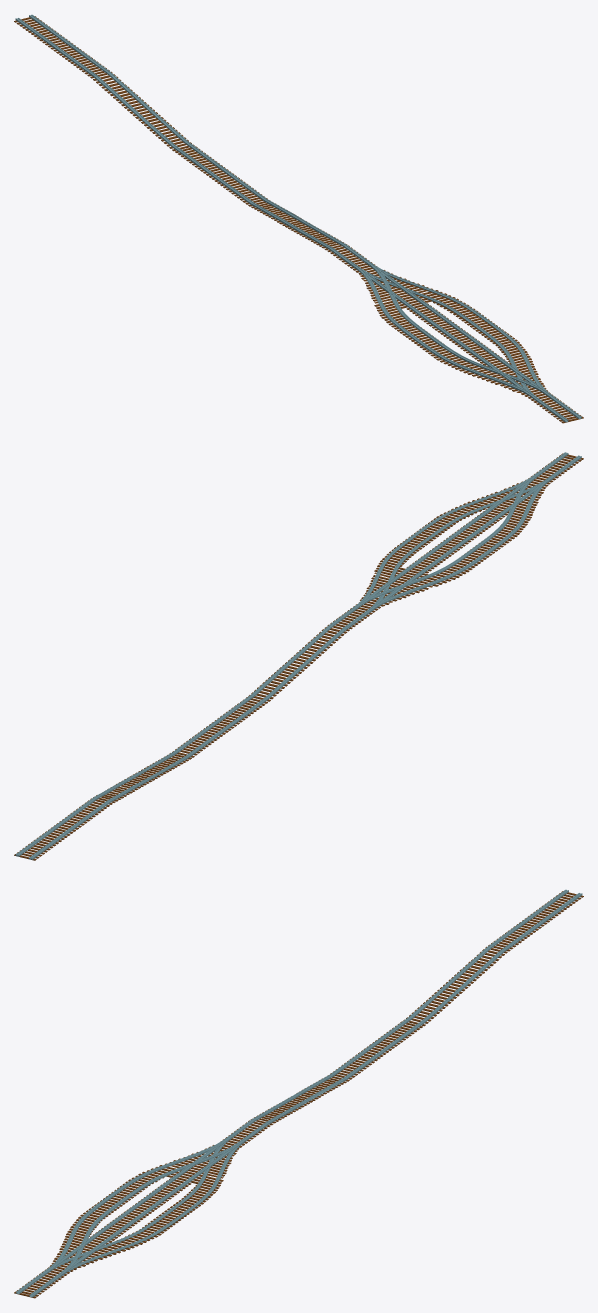
The model's file is full.fbx.
3 renders of one model, top to bottom at view 1: azimuth 30°, elevation 25°; view 2: azimuth 150°, elevation 25°; view 3: azimuth 330°, elevation 25°, orthographic.
Visible parts, largest first — view 1: RailWood, rail, FullRightRail, FullLeftRail.001, rail.001, RailWood.001; view 2: RailWood, rail, FullRightRail, FullLeftRail.001, RailWood.001, rail.001; view 3: RailWood, rail, FullRightRail, FullLeftRail.001, RailWood.001, rail.001.
Boxes of the visible parts, box(x1,y1,x2,y2) form: RailWood: box(14, 16, 583, 423); rail: box(15, 14, 581, 422); FullRightRail: box(350, 259, 550, 402); FullLeftRail.001: box(350, 260, 547, 394); rail.001: box(290, 215, 555, 402); RailWood.001: box(426, 322, 521, 387); RailWood: box(14, 453, 583, 860); rail: box(15, 452, 581, 859); FullRightRail: box(350, 475, 555, 614); FullLeftRail.001: box(353, 478, 542, 614); RailWood.001: box(432, 494, 539, 554); rail.001: box(280, 471, 555, 671); RailWood: box(14, 891, 583, 1298); rail: box(16, 889, 582, 1297); FullRightRail: box(46, 1134, 247, 1276); FullLeftRail.001: box(43, 1136, 247, 1277); RailWood.001: box(57, 1197, 165, 1256); rail.001: box(42, 1093, 315, 1277).
Bounding box in the file's own units: 353 × 63.5 × 4200.
